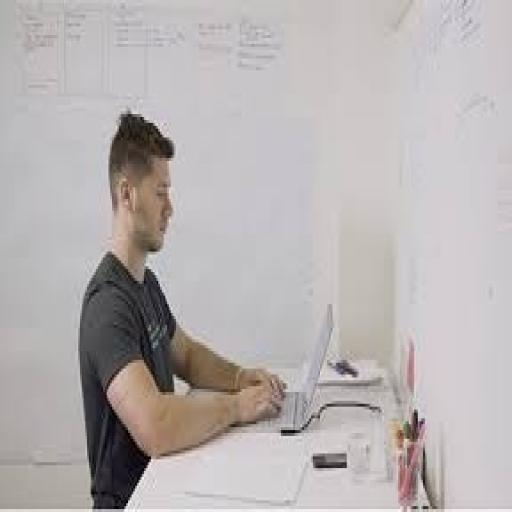sitting: (76, 105, 288, 506)
